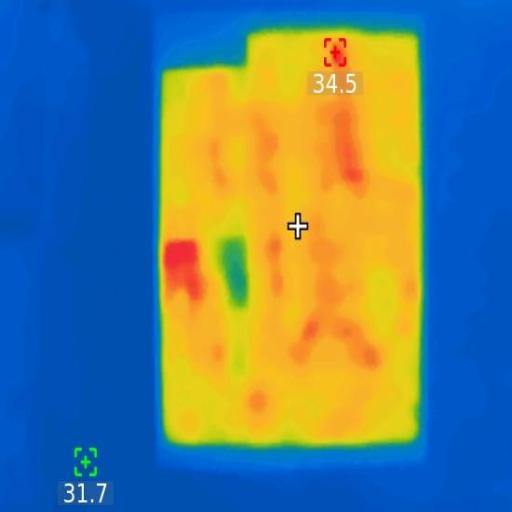hotspot: (161, 231, 214, 312), (333, 110, 365, 189), (322, 35, 354, 67), (301, 316, 324, 350)
